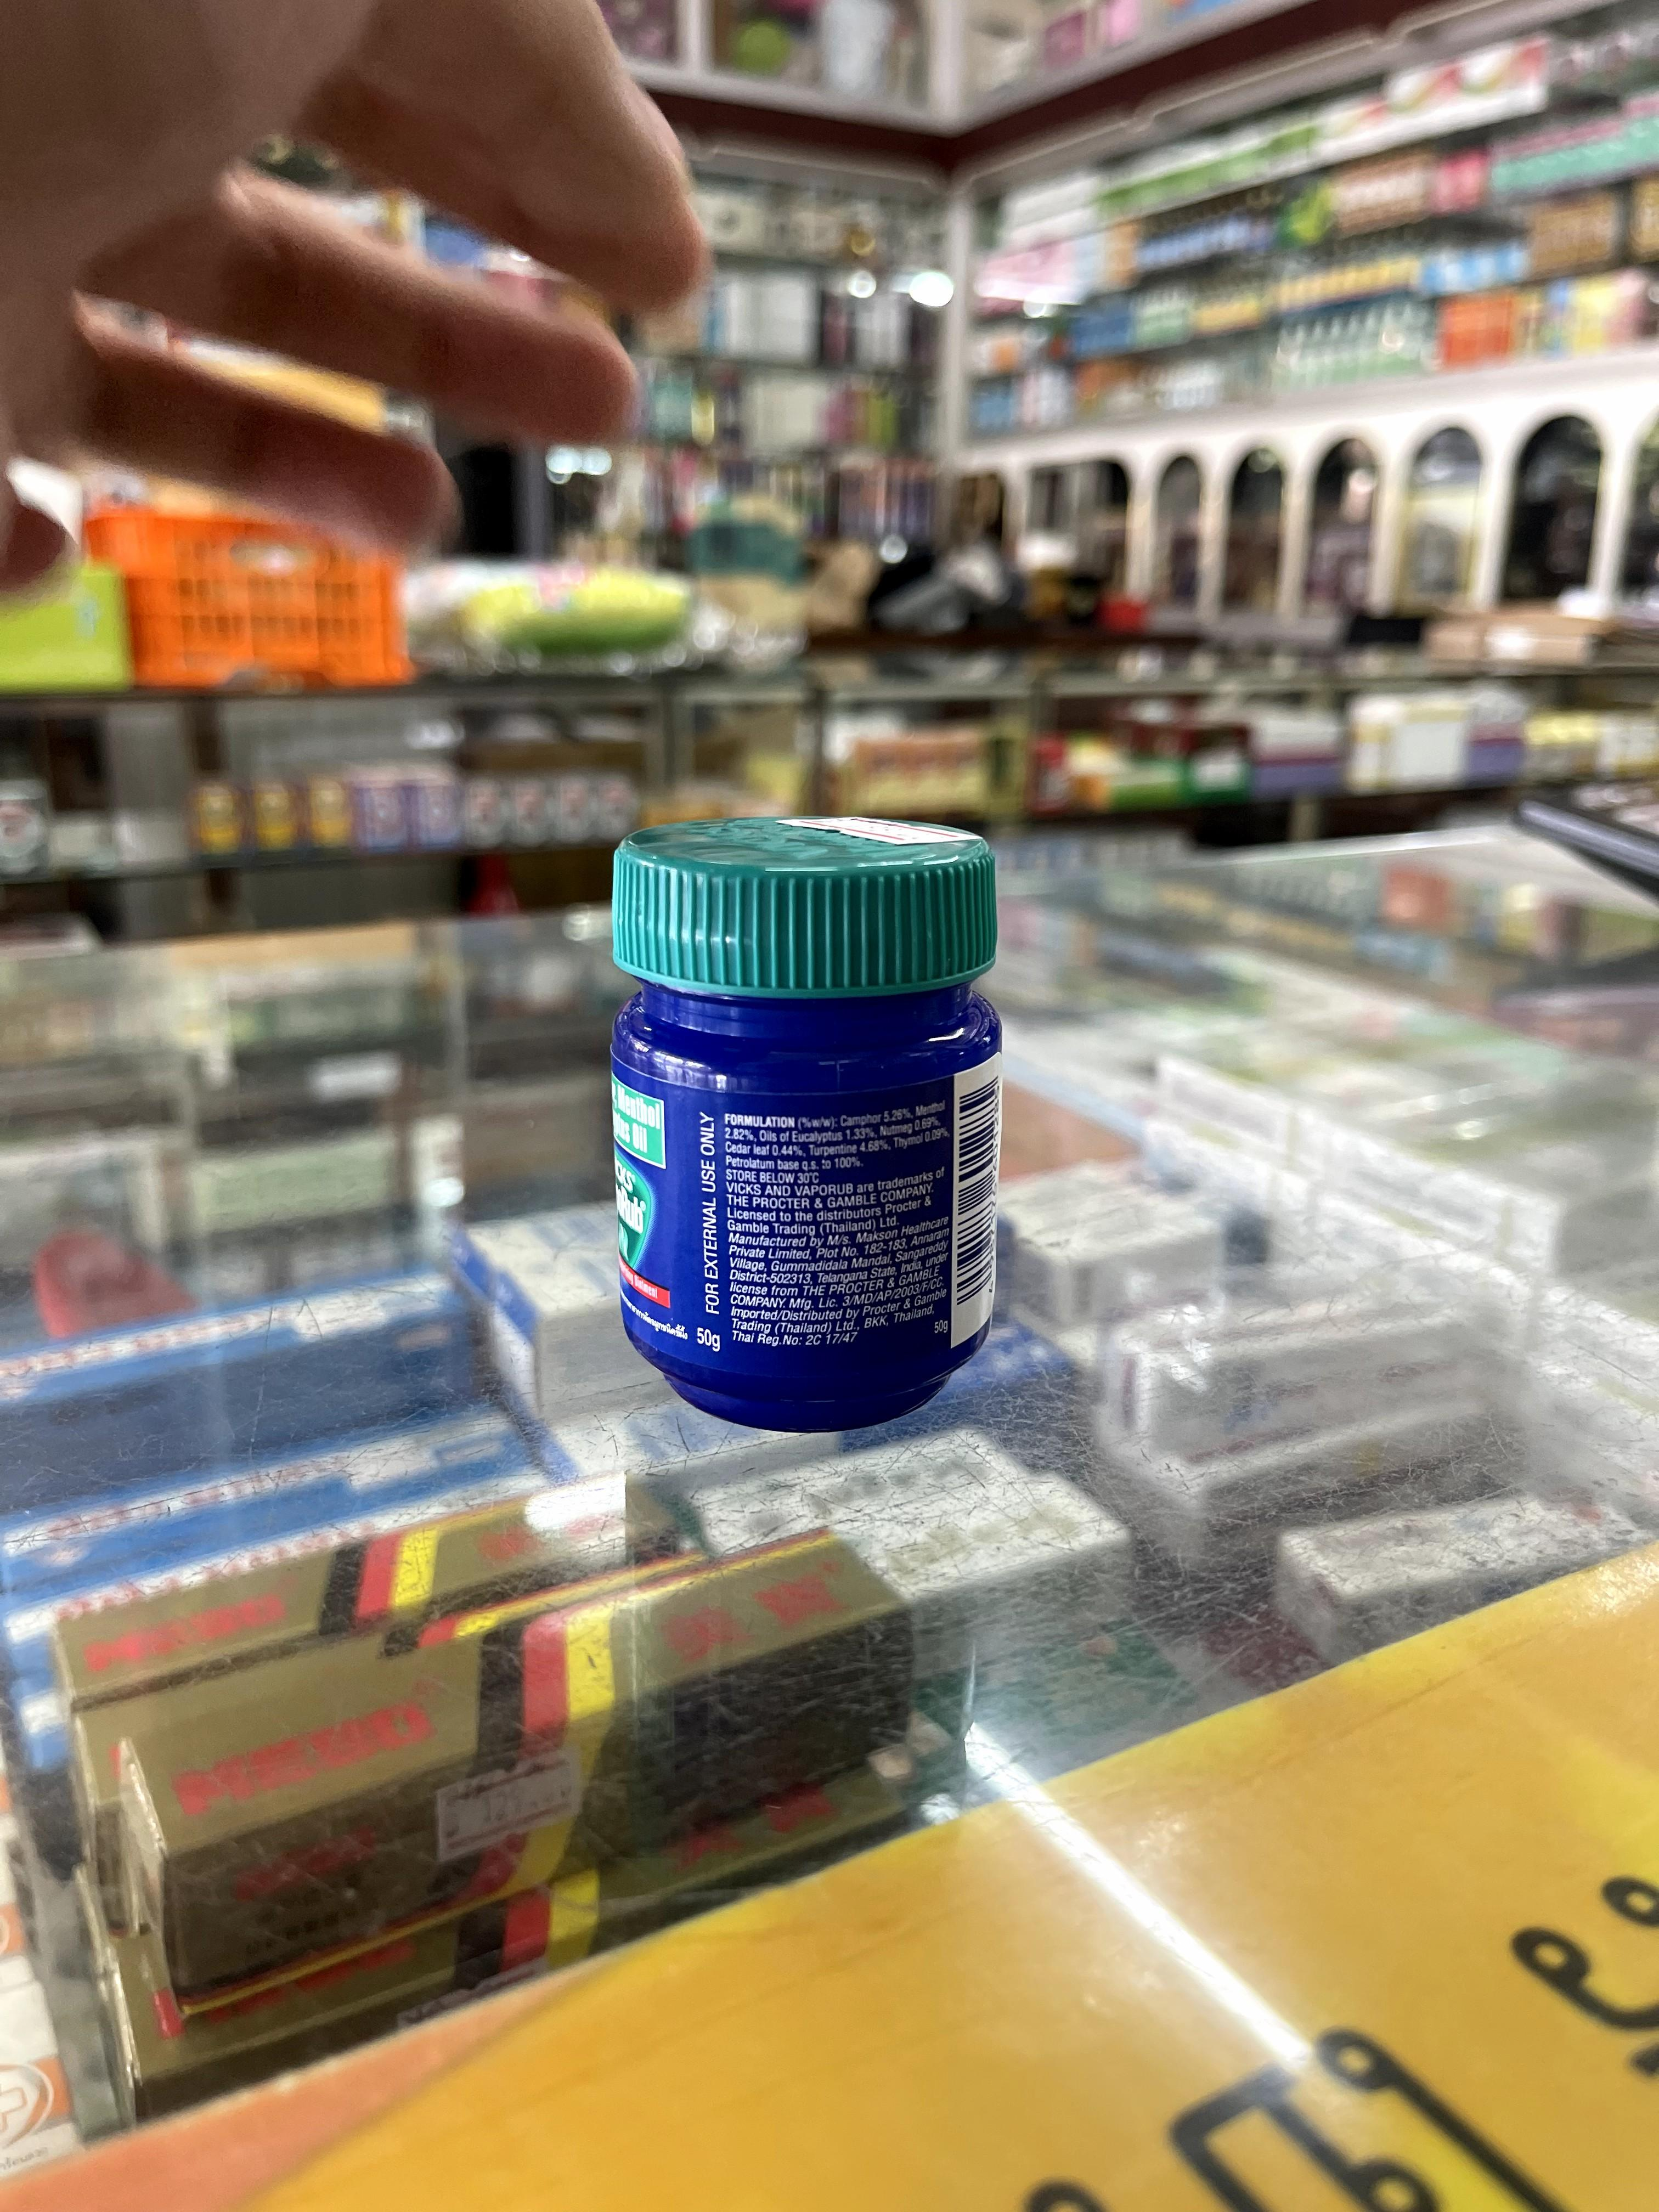VapoRub_Big: (620, 817, 1009, 1435)
